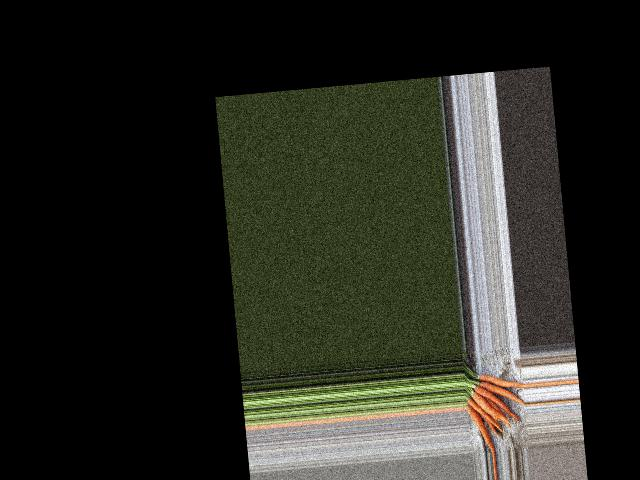carrot: (466, 399, 496, 453)
